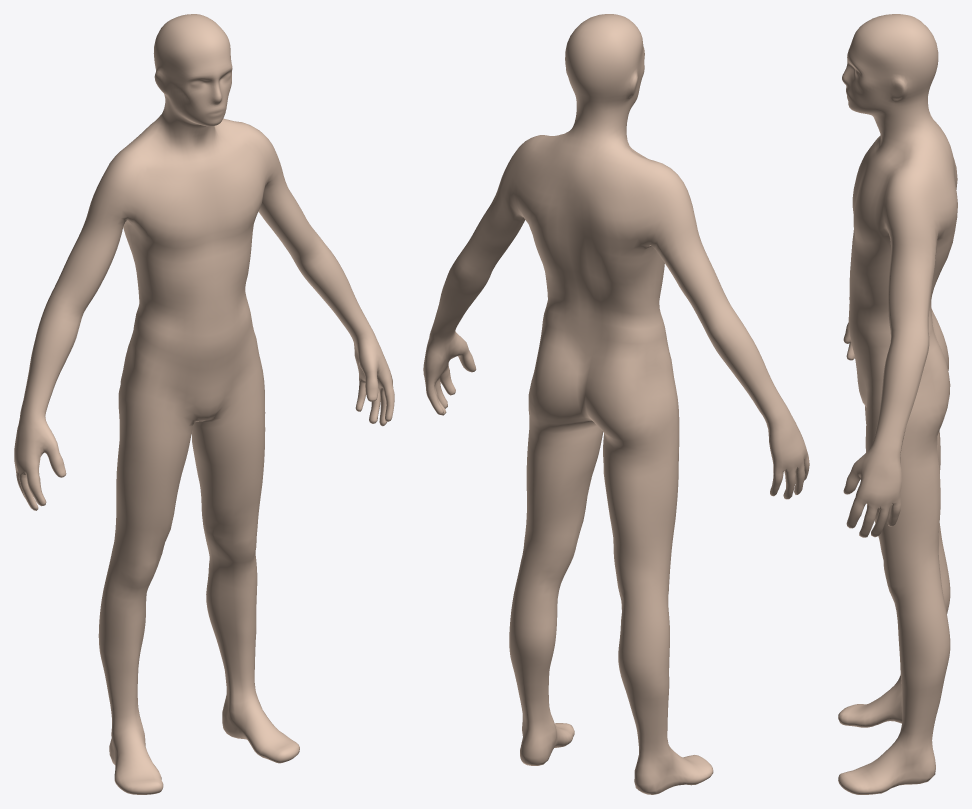
File: Player_02.fbx
The picture shows the model from 3 angles, left to right: view 1: azimuth 30°, elevation 25°; view 2: azimuth 150°, elevation 25°; view 3: azimuth 270°, elevation 25°; orthographic projection. The views are drawn at different scales.
Visible parts, largest first — view 1: HumanBody:humanBody; view 2: HumanBody:humanBody; view 3: HumanBody:humanBody.
Part boxes in pixels (<box>): HumanBody:humanBody: <box>14,14,394,794</box>; HumanBody:humanBody: <box>423,14,809,794</box>; HumanBody:humanBody: <box>838,14,957,794</box>.
Size of the model in its own units: 0.9548 by 1.83 by 0.2686.
